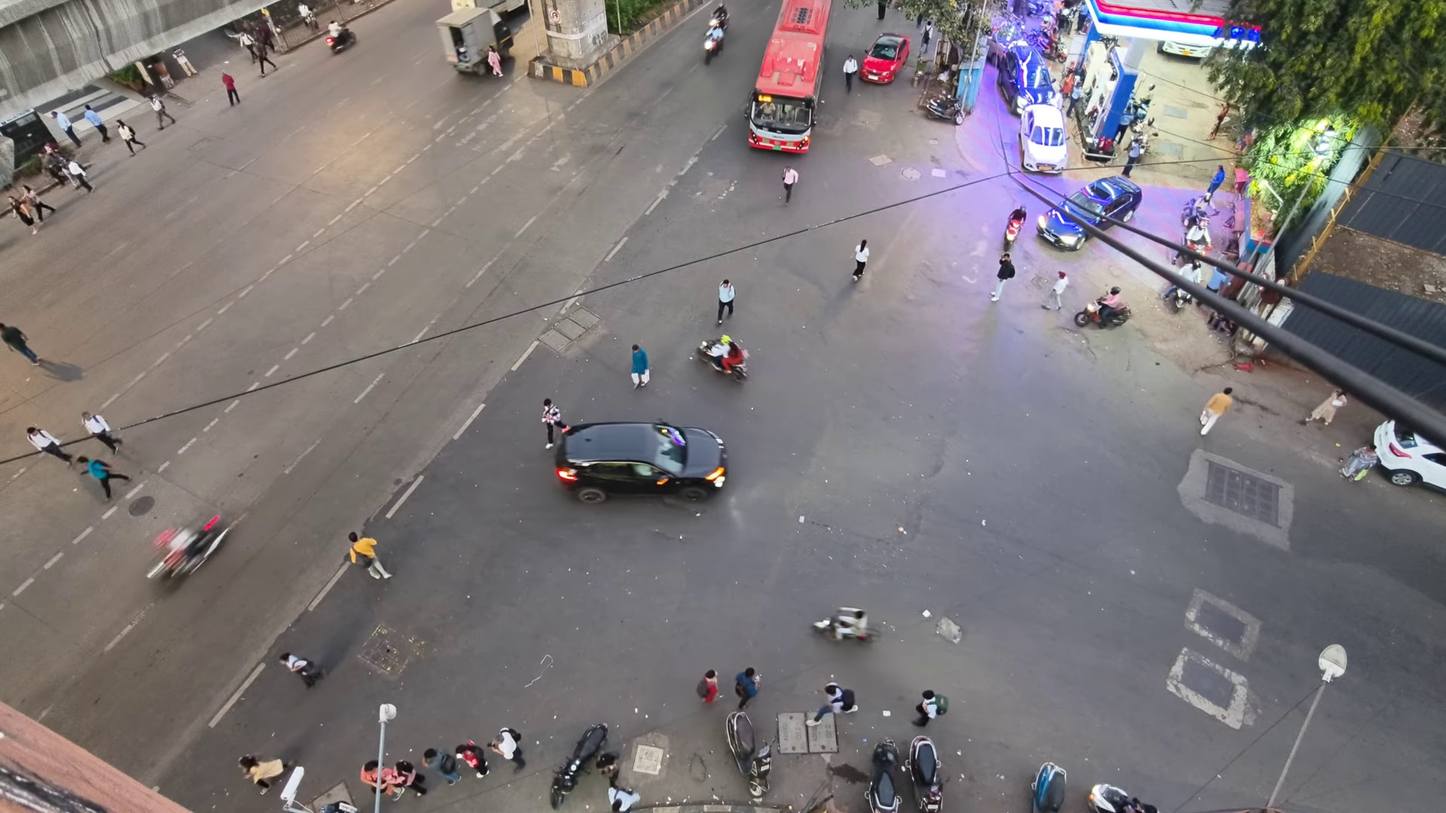driving: (555, 422, 725, 503), (746, 0, 831, 152), (1037, 175, 1142, 250), (859, 32, 910, 83)
walking: (76, 456, 130, 501), (807, 682, 857, 725), (349, 532, 391, 578), (238, 755, 286, 793), (26, 427, 72, 465), (360, 760, 404, 799), (81, 413, 122, 453), (0, 323, 39, 365), (1303, 389, 1347, 425), (489, 727, 525, 769), (280, 652, 323, 687), (1200, 388, 1232, 435), (20, 184, 56, 223), (423, 748, 459, 784), (541, 398, 567, 447), (456, 740, 489, 778), (42, 148, 75, 184), (914, 690, 947, 726), (991, 252, 1015, 300), (8, 196, 38, 234), (395, 760, 426, 796), (735, 667, 760, 710), (117, 118, 145, 155), (52, 111, 81, 146), (83, 104, 109, 142), (1042, 271, 1068, 309), (149, 94, 175, 129), (66, 159, 93, 192), (1207, 102, 1230, 139), (609, 784, 639, 812), (1112, 106, 1134, 143), (1122, 137, 1142, 177), (717, 279, 735, 323), (631, 344, 649, 388), (1204, 165, 1225, 202), (697, 669, 718, 705), (852, 239, 868, 282), (256, 45, 278, 76), (782, 166, 798, 204), (238, 29, 256, 62), (221, 72, 239, 105), (843, 54, 858, 92), (1066, 81, 1082, 114), (487, 44, 502, 76), (1060, 72, 1077, 99), (921, 20, 934, 53), (878, 0, 886, 20)
